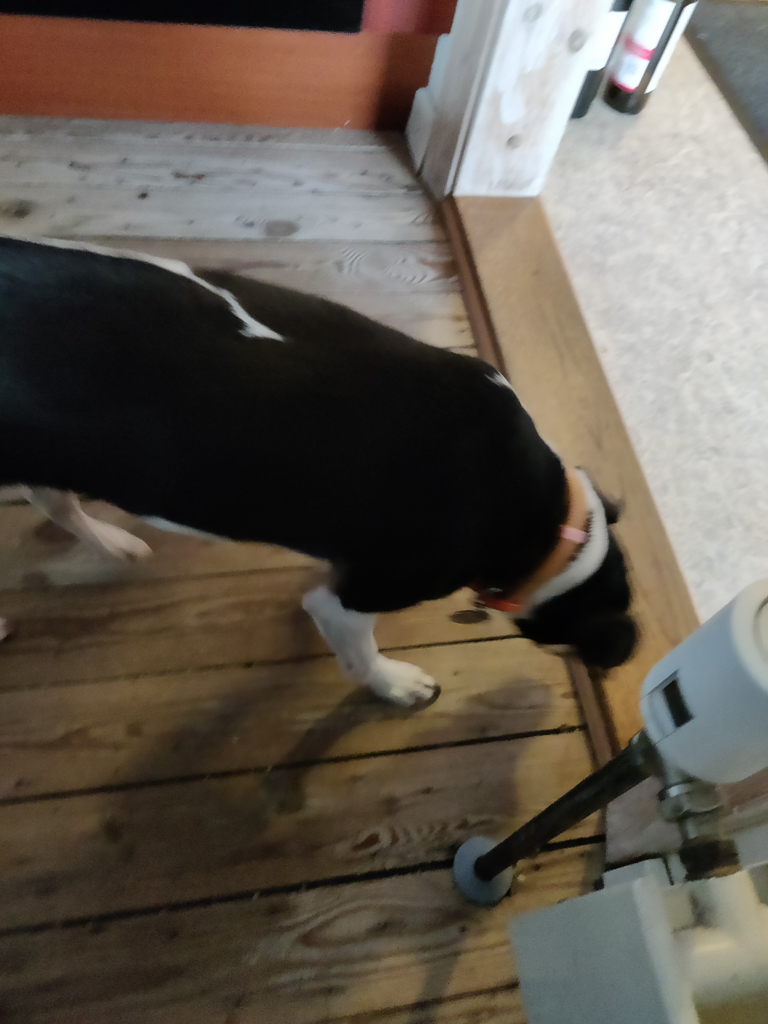Dog: (0, 223, 663, 742)
